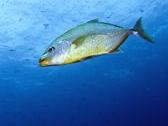Carangidae -Jacks-: (33, 8, 155, 68)
